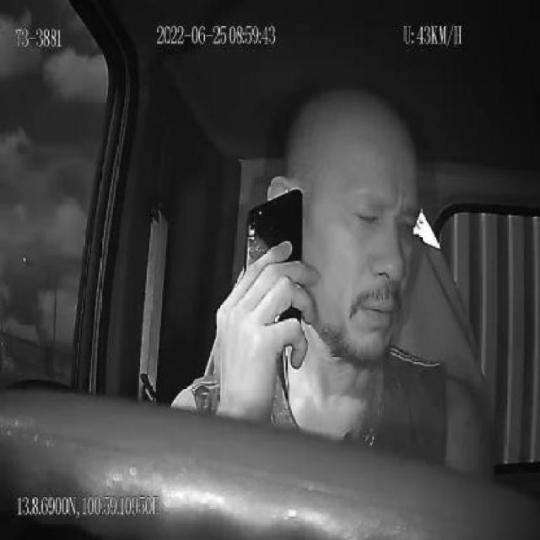phone: (244, 184, 304, 346)
